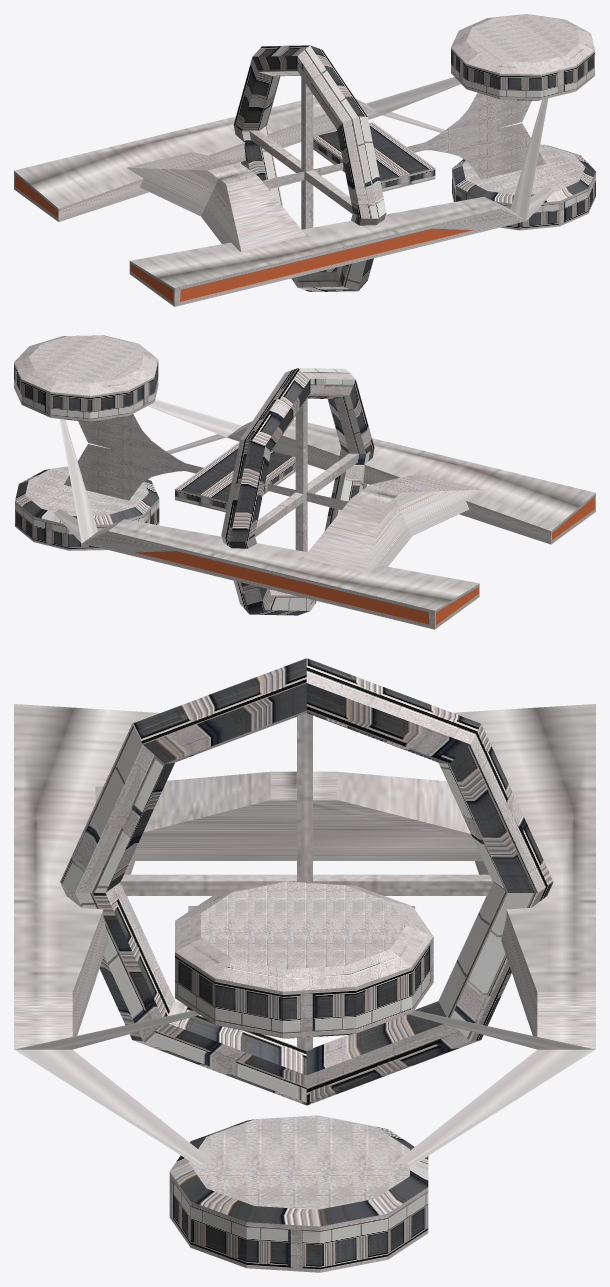
File: mediumShip.fbx
The picture shows the model from 3 angles, top to bottom: view 1: azimuth 30°, elevation 25°; view 2: azimuth 150°, elevation 25°; view 3: azimuth 270°, elevation 25°; orthographic projection. The views are drawn at different scales.
Parts seen in each view (by area): view 1: Cylinder; view 2: Cylinder; view 3: Cylinder.
Boxes of the visible parts, bbox=[...] form: Cylinder: bbox=[14, 14, 595, 306]; Cylinder: bbox=[14, 335, 595, 629]; Cylinder: bbox=[14, 658, 595, 1272].
Size of the model in its own units: 778 by 374 by 441.
